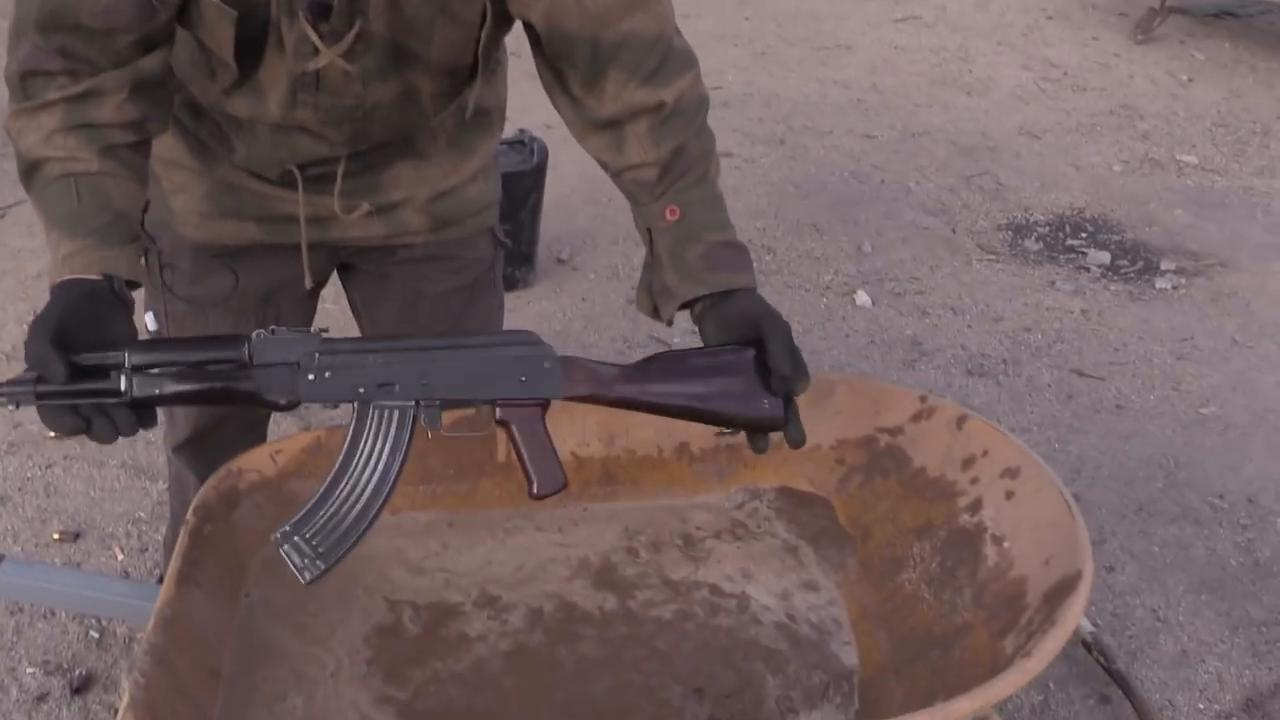AK47 Rifle: (3, 331, 787, 582)
